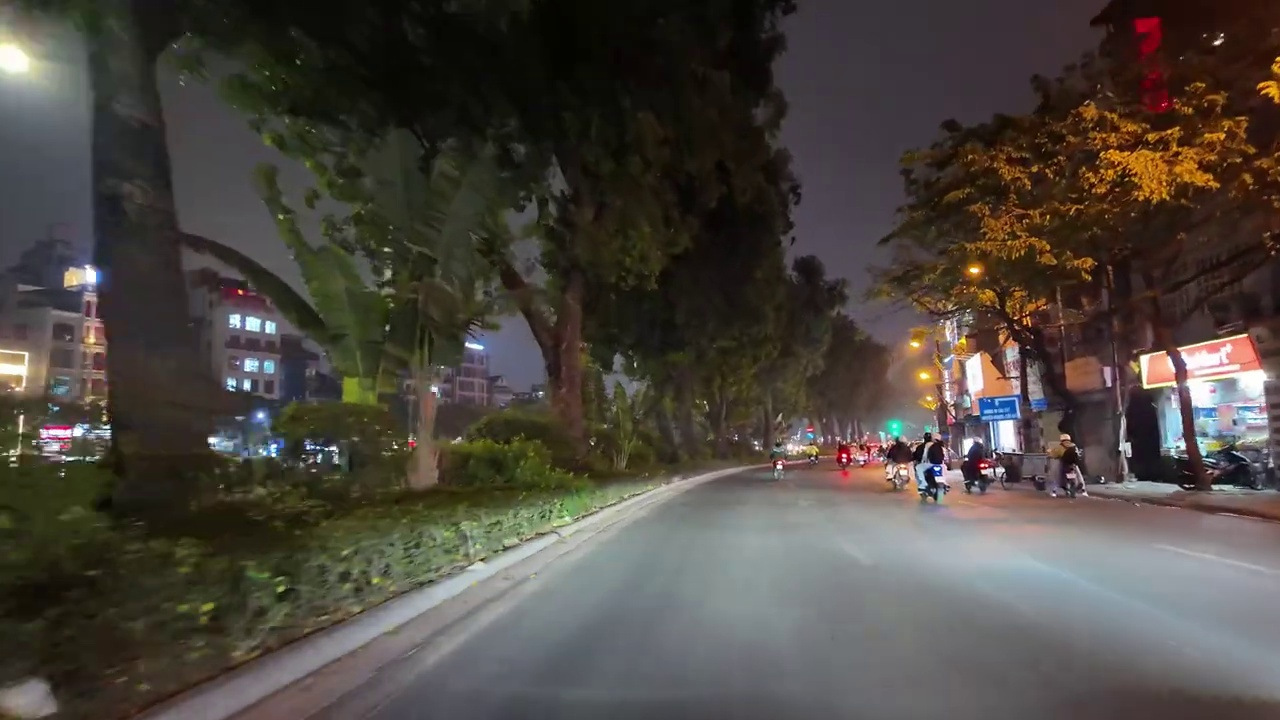acesa: (0, 32, 42, 85), (903, 331, 926, 357)
